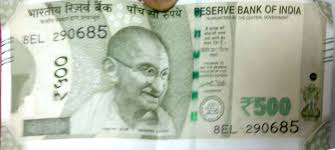fiveHundred: (18, 20, 317, 128)
